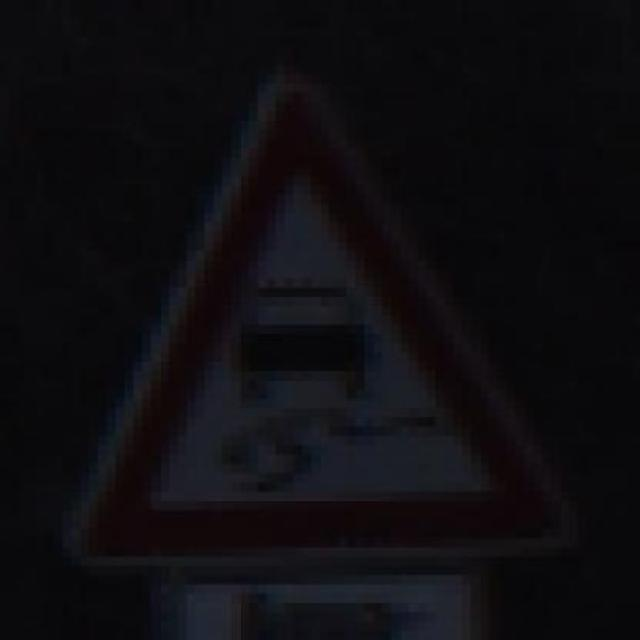Slippery Road Ahead: (53, 64, 578, 576)
